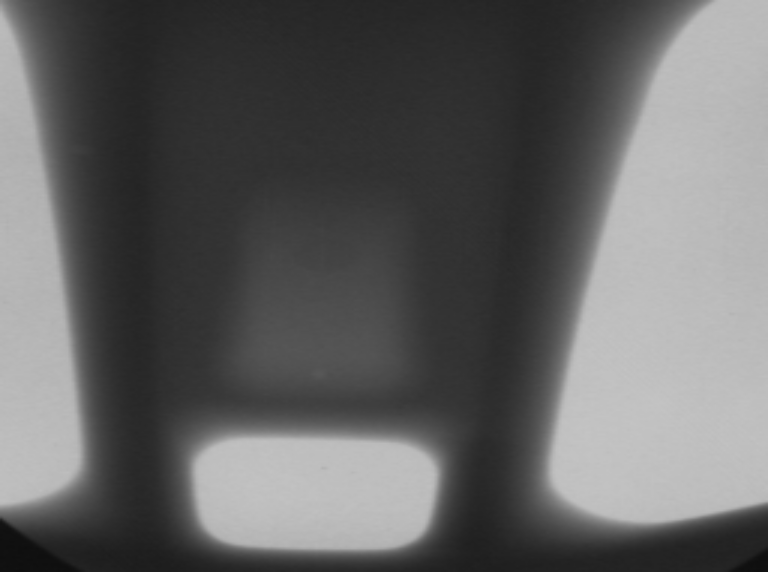defect: (297, 360, 348, 395)
